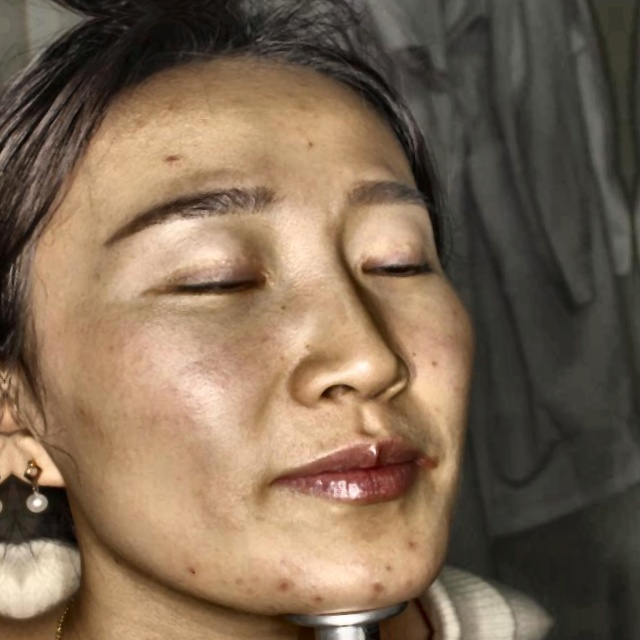comedone: (360, 574, 388, 600), (270, 576, 296, 598), (166, 145, 184, 168)
